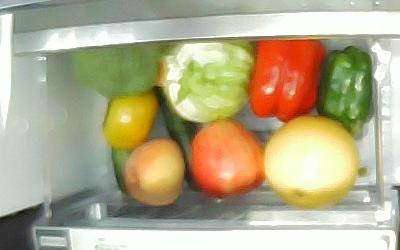apple: (190, 119, 265, 199)
broccoli: (70, 44, 162, 96)
cucumber: (155, 84, 204, 194), (110, 141, 134, 194)
grapefruit: (263, 114, 358, 211)
lettuce: (157, 39, 255, 123)
paprika: (248, 39, 324, 123), (316, 46, 374, 140)
peach: (123, 137, 186, 207)
persimmon: (102, 88, 157, 150)
